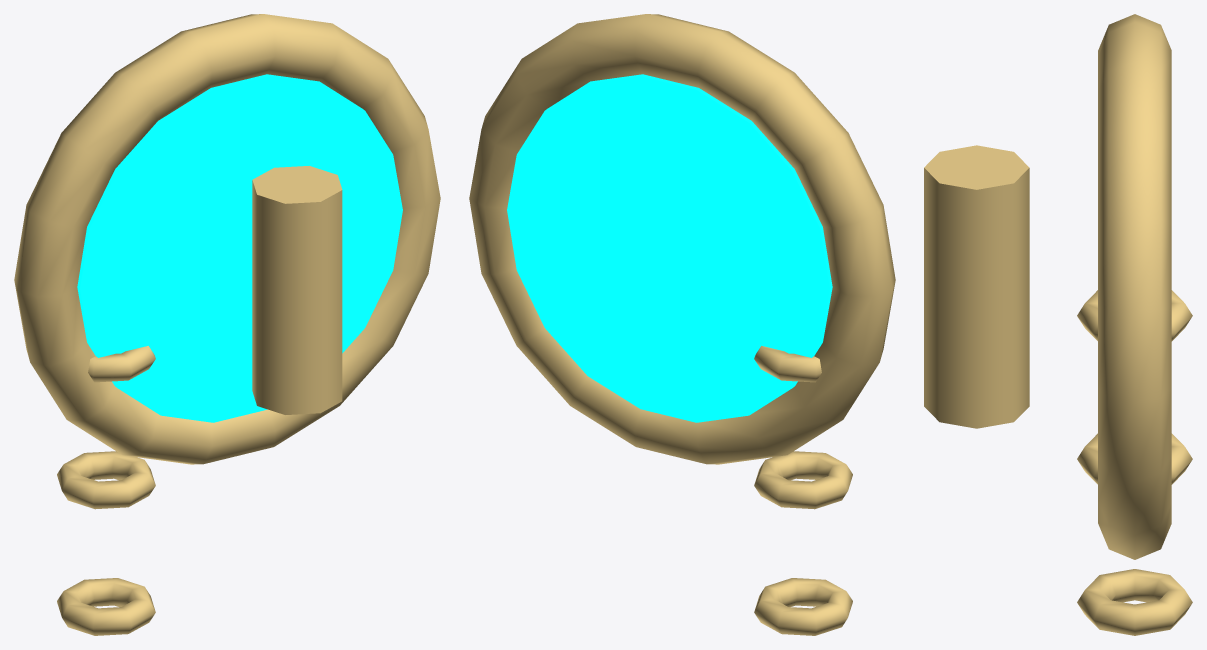
File: monocle_brass.glb
3 views of the same model, side by side, from view 1: azimuth 30°, elevation 25°; view 2: azimuth 150°, elevation 25°; view 3: azimuth 270°, elevation 25° (orthographic). The views are drawn at different scales.
Visible parts, largest first — view 1: rim, lens, chain; view 2: lens, rim, chain; view 3: rim, chain.
Boxes of the visible parts, left/top/right/bottom form: rim: left=14, top=14, right=440, bottom=464; lens: left=77, top=74, right=402, bottom=422; chain: left=57, top=346, right=155, bottom=635; lens: left=507, top=74, right=832, bottom=422; rim: left=469, top=14, right=895, bottom=464; chain: left=754, top=346, right=852, bottom=635; rim: left=924, top=14, right=1171, bottom=559; chain: left=1077, top=290, right=1192, bottom=635.
Bounding box in the file's own units: 0.104 × 0.1338 × 0.051.
